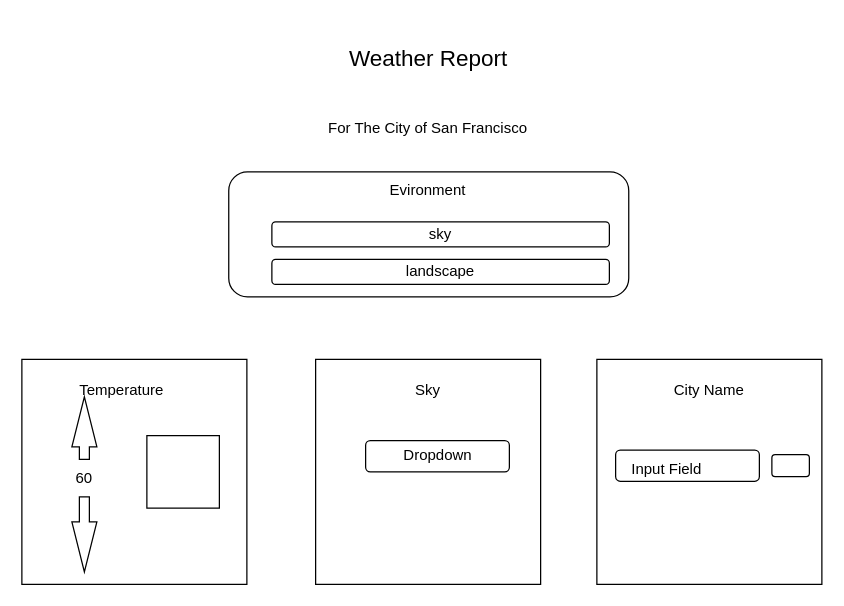
This 844x606 diagram has some shape labels left out. The box of each missing label's shape, as (x1, y1, x2, y2) in pixels:
Reset: (771, 453, 809, 476)
Temp Button: (146, 434, 219, 508)
